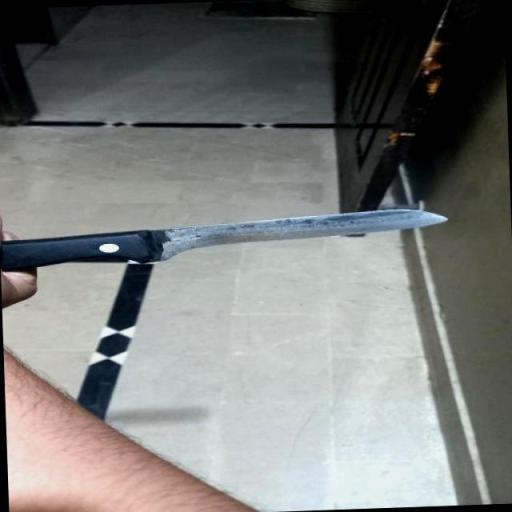knife: (0, 206, 450, 268)
